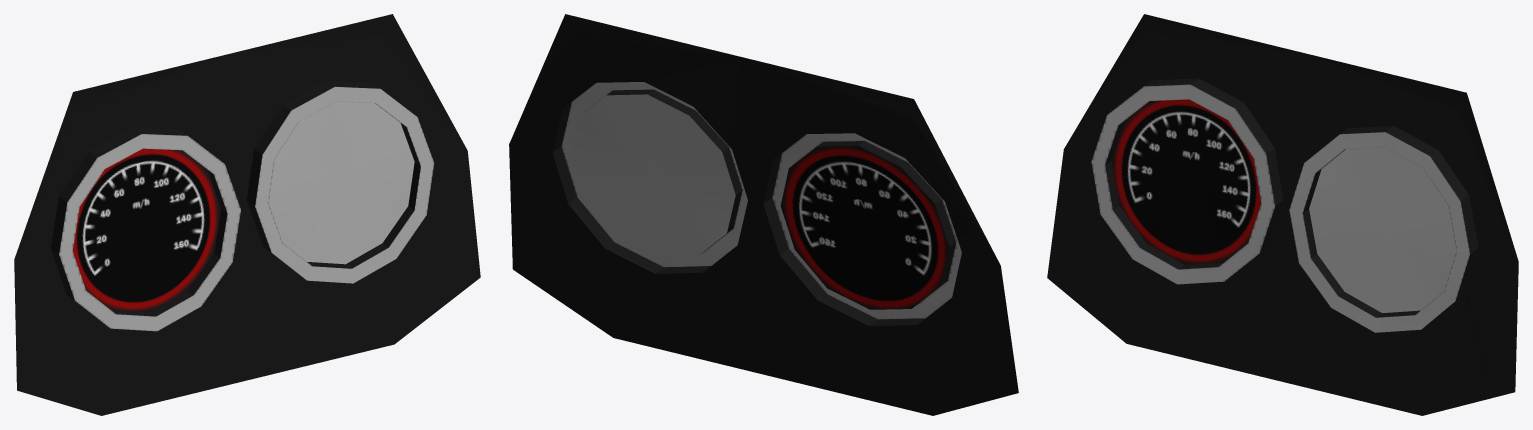
Rendered from Dashboard.glb.
3 views of the same model, side by side, from view 1: azimuth 30°, elevation 25°; view 2: azimuth 150°, elevation 25°; view 3: azimuth 330°, elevation 25° (orthographic). The views are drawn at different scales.
Parts seen in each view (by area): view 1: Car_Model:pCube1; view 2: Car_Model:pCube1; view 3: Car_Model:pCube1.
Part boxes in pixels (x1=…): Car_Model:pCube1: x1=14, y1=14, x2=480, y2=415; Car_Model:pCube1: x1=509, y1=14, x2=1018, y2=415; Car_Model:pCube1: x1=1047, y1=14, x2=1518, y2=415.
Bounding box in the file's own units: 12.06 × 7.66 × 1.16.
1 material, 1 textured.
